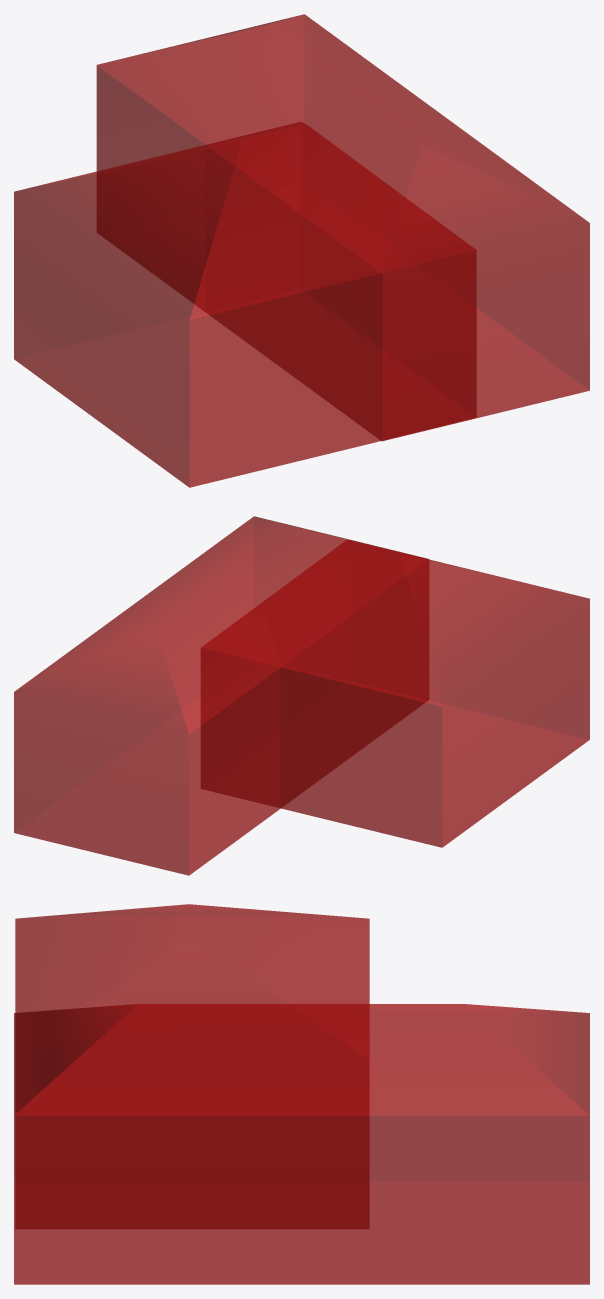
The model's file is SM_Bld_House_Preset_06_COLLISION.fbx.
3 views of the same model, one above another, from view 1: azimuth 30°, elevation 25°; view 2: azimuth 150°, elevation 25°; view 3: azimuth 270°, elevation 25° (orthographic). The views are drawn at different scales.
Parts seen in each view (by area): view 1: SM_Bld_House_Preset_06_COLLISION; view 2: SM_Bld_House_Preset_06_COLLISION; view 3: SM_Bld_House_Preset_06_COLLISION.
Boxes of the visible parts, box(x1,y1,x2,y2) form: SM_Bld_House_Preset_06_COLLISION: box(14, 14, 589, 487); SM_Bld_House_Preset_06_COLLISION: box(14, 516, 589, 875); SM_Bld_House_Preset_06_COLLISION: box(14, 904, 589, 1284).
Size of the model in its own units: 1055 by 630 by 1304.
